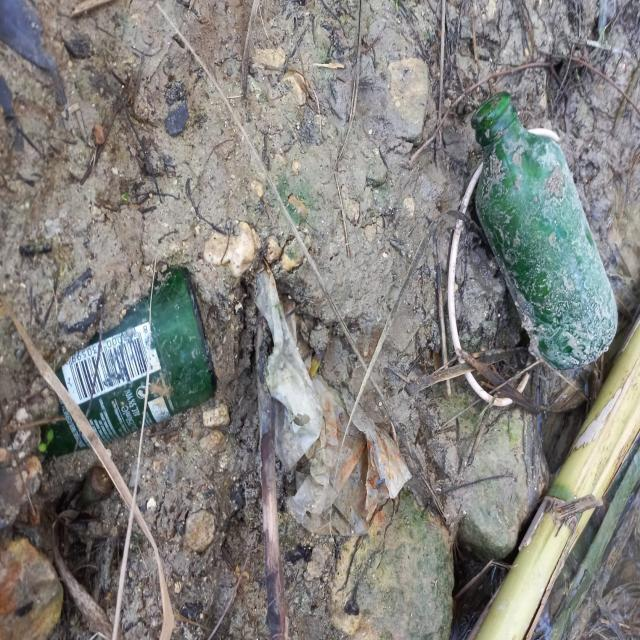Bottle: (469, 94, 619, 371), (41, 263, 218, 463)
Other litter: (528, 129, 563, 142)
Other plastic: (256, 263, 419, 544), (448, 166, 534, 408)
